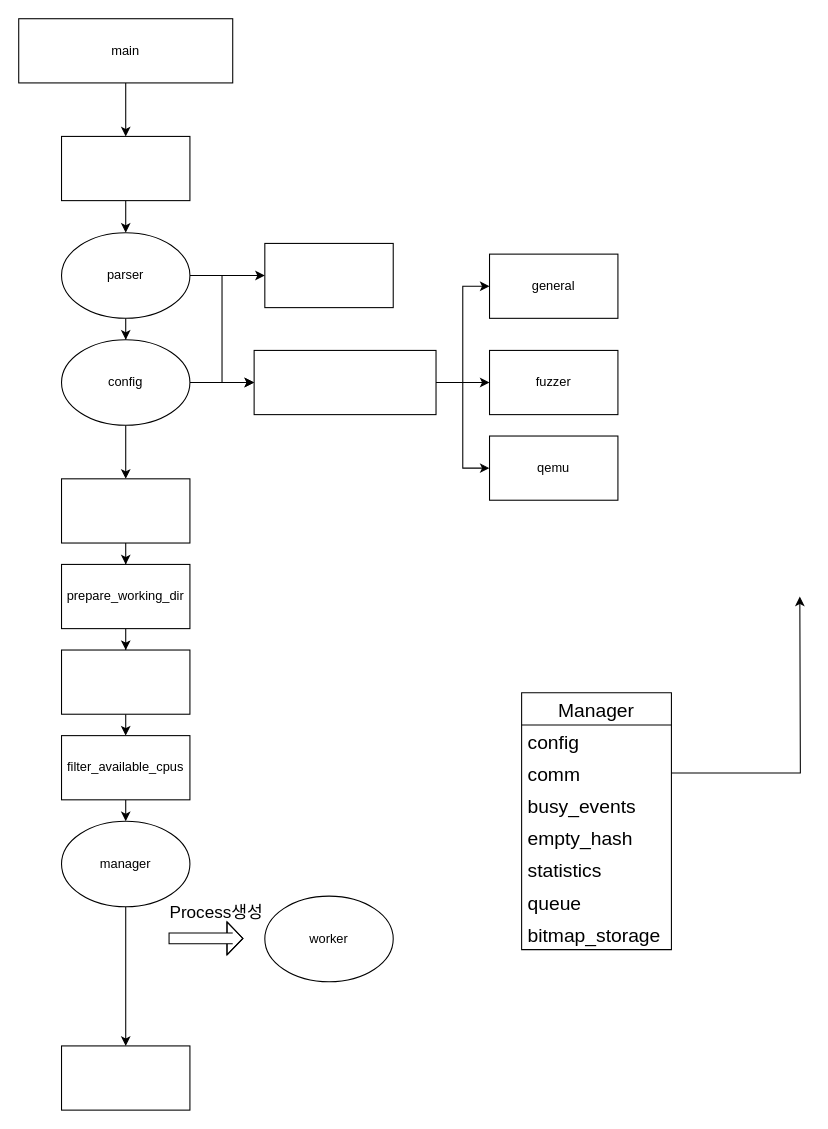
Image size: 828x1129. Some labels were removed from this diagram. The box of each missing label's shape, as (x1, y1, x2, y2) in pixels:
ConfigArgParser: (264, 242, 393, 308)
copy_seed_files: (60, 649, 190, 714)
manager.loop: (60, 1045, 190, 1110)
parser.parse_fuzz_options: (253, 349, 436, 415)
post_self_check: (60, 478, 190, 543)
self_check: (60, 135, 190, 201)
